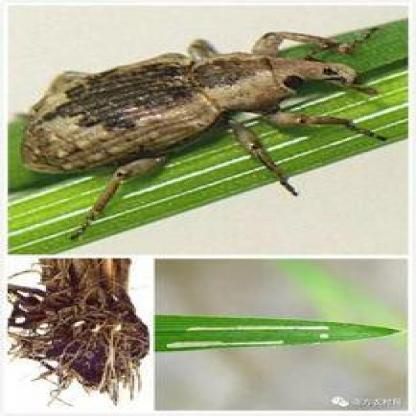rice-bug: (18, 24, 386, 182)
